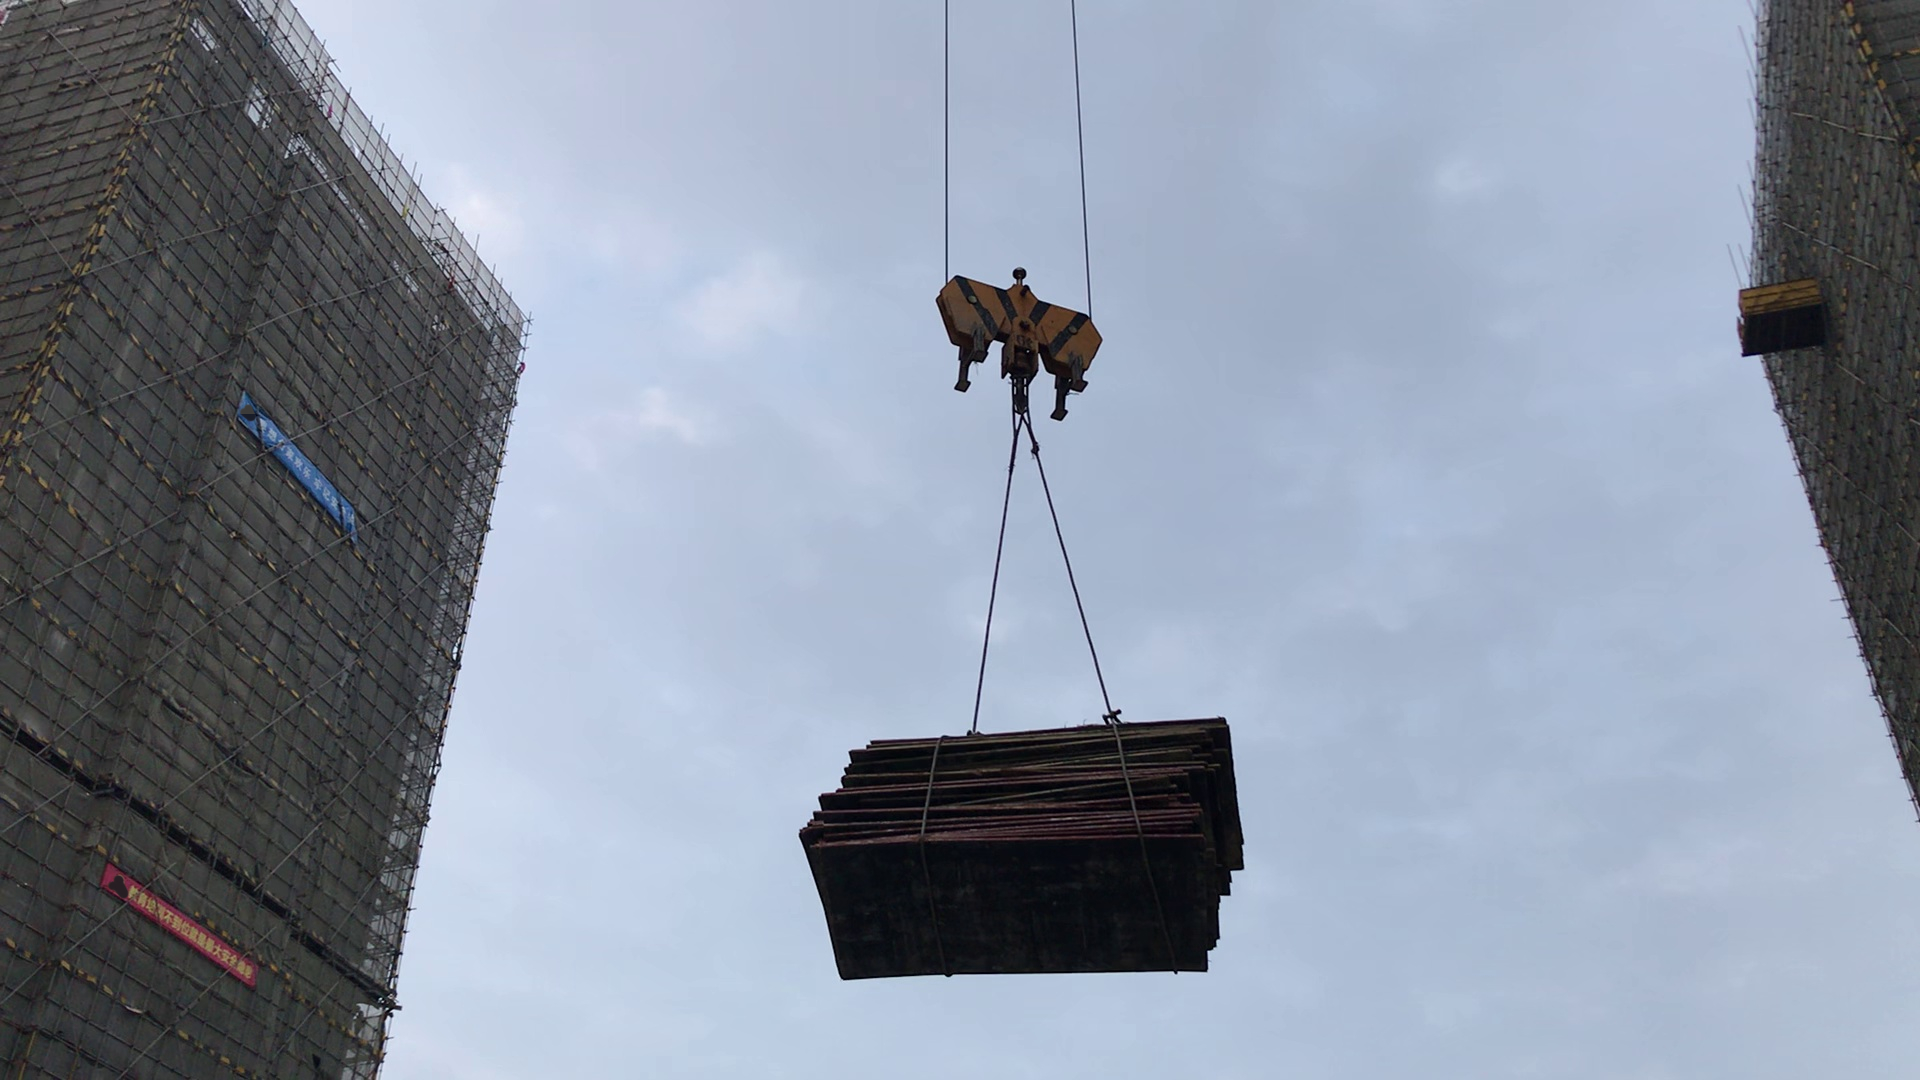board: (807, 716, 1244, 986)
hook: (922, 273, 1102, 425)
slogan: (96, 849, 261, 996), (235, 386, 361, 541)
